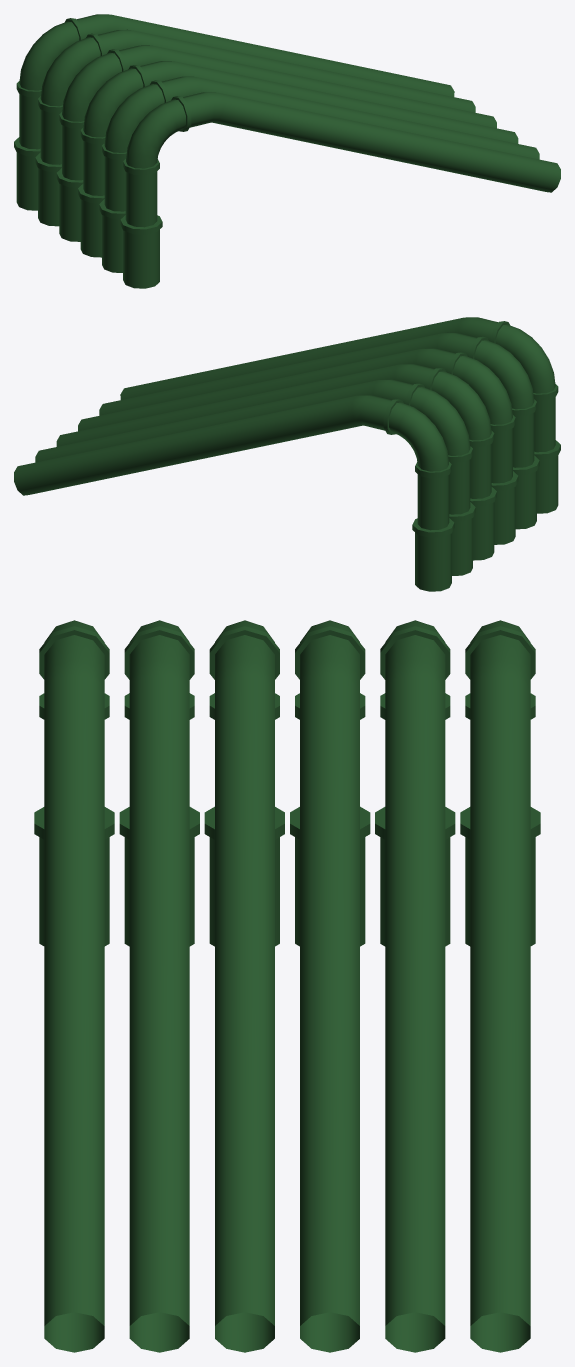
Rendered from Side_tube_01.fbx.
The picture shows the model from 3 angles, top to bottom: view 1: azimuth 30°, elevation 25°; view 2: azimuth 150°, elevation 25°; view 3: azimuth 270°, elevation 25°; orthographic projection. The views are drawn at different scales.
Parts seen in each view (by area): view 1: side_tube_01; view 2: side_tube_01; view 3: side_tube_01.
Part boxes in pixels (x1,y1,x2,y2): side_tube_01: (14, 14, 560, 288); side_tube_01: (14, 317, 560, 591); side_tube_01: (34, 620, 540, 1352).
Size of what is drawn, in the model's own units: 1816 by 917 by 735.
